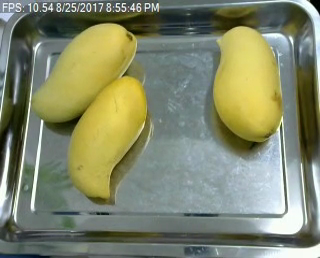Mango: (31, 21, 140, 125), (67, 75, 147, 200), (214, 23, 284, 140)
